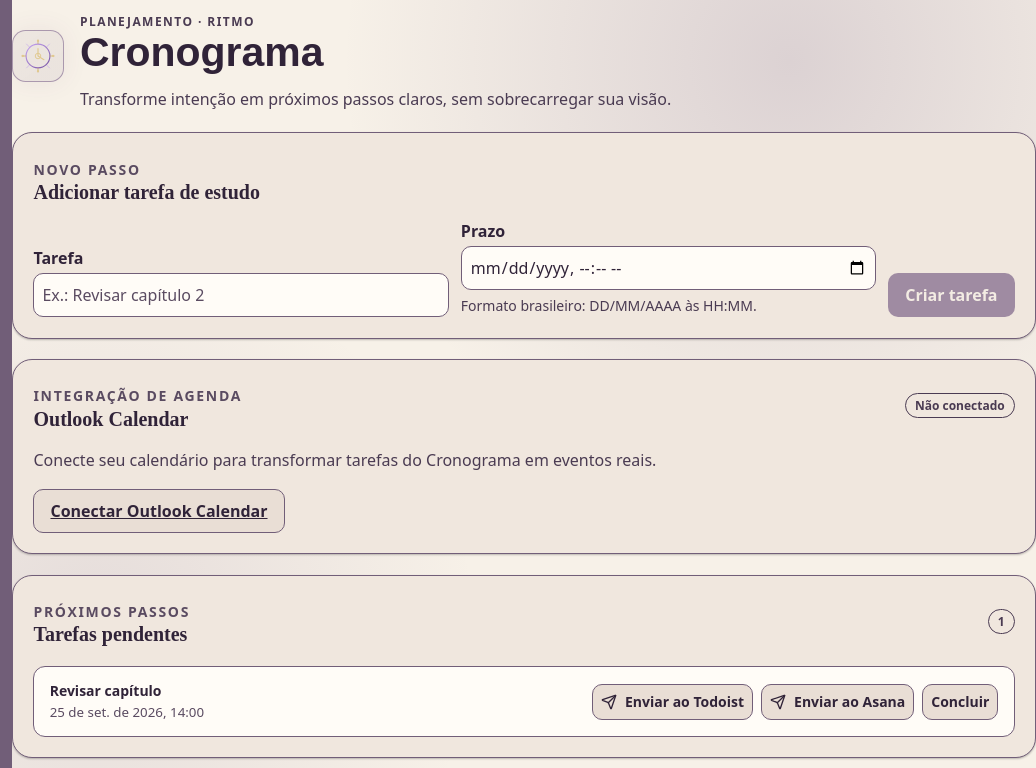
Scenario: StudyTaskBoard › sends a study task to Asana without mutating the native task state
The image size is (1036, 768).
Click the button "Enviar ao Asana" at (838, 702), box [761,684,914,720]
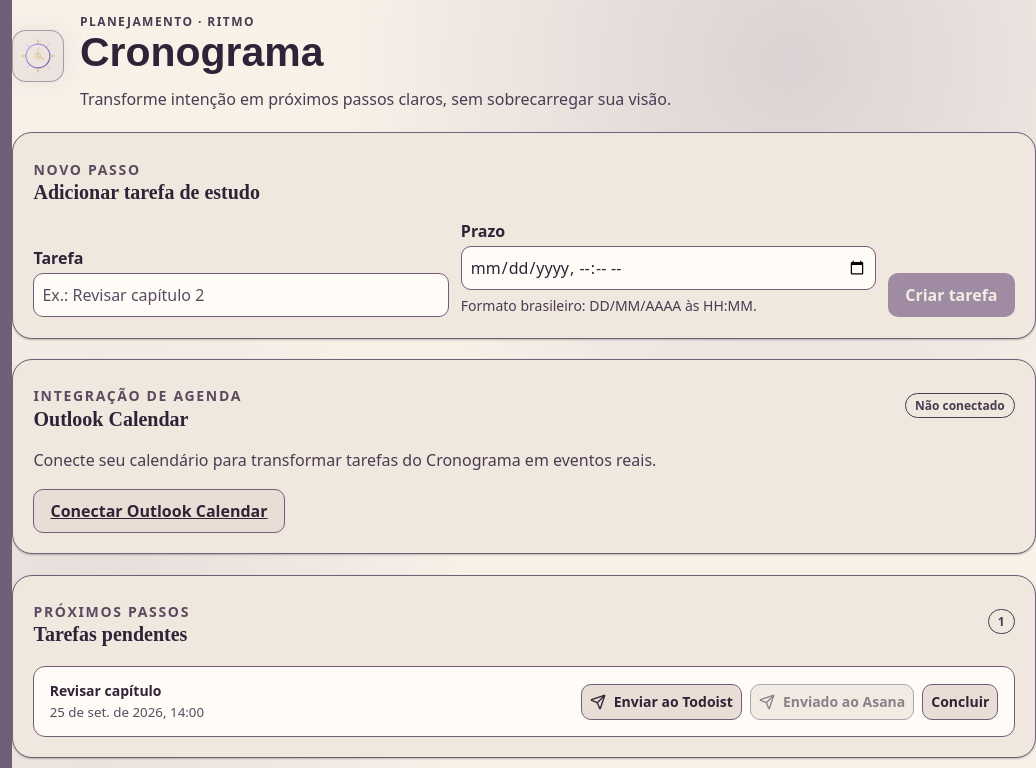
Expected: the button "Enviado ao Asana" is shown, [750,684,914,720]
